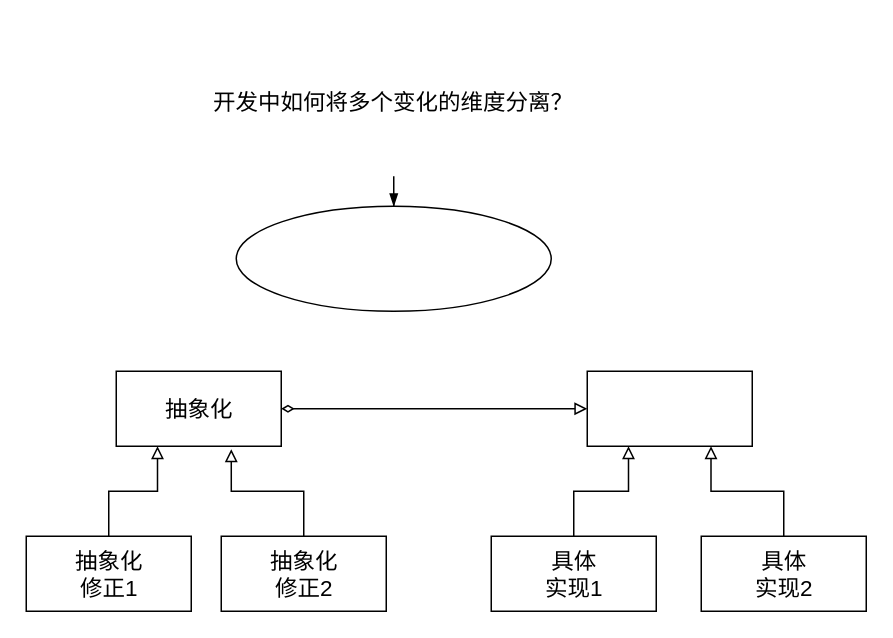
Image size: 893x638. Some labels were removed from this diagram. Here are the shapes that lost their labels. From the top down, the centre of each, then its label:
the point at 393,258: 桥接模式 维度1->维度2
the point at 669,408: 实现化
